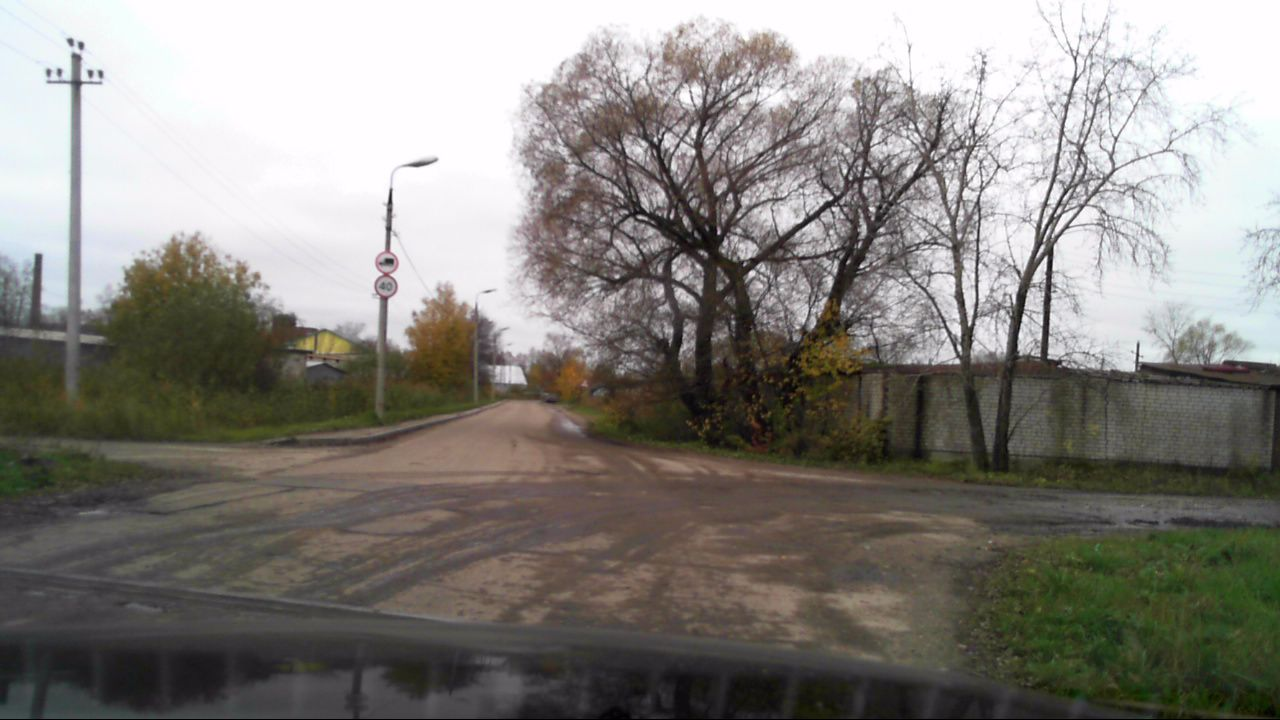speed_warning_40: (374, 275, 398, 297)
